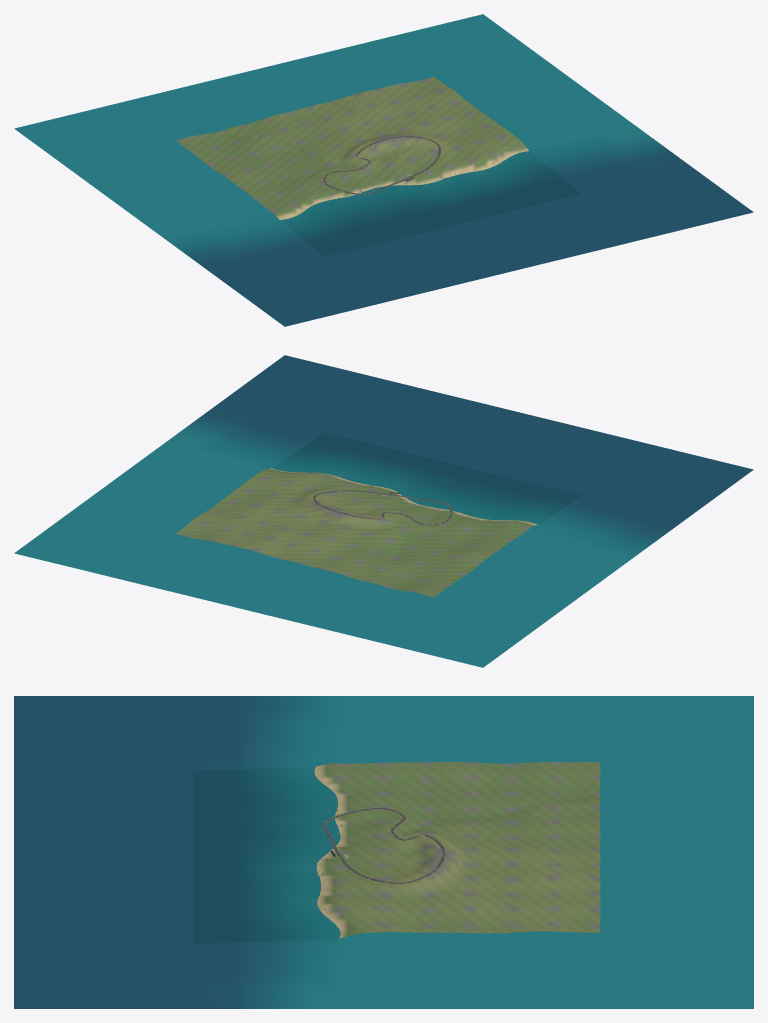
The model's file is azurline-circuit-lod2.glb.
3 views of the same model, one above another, from view 1: azimuth 30°, elevation 25°; view 2: azimuth 150°, elevation 25°; view 3: azimuth 270°, elevation 25° (orthographic). The views are drawn at different scales.
Parts seen in each view (by area): view 1: ocean__Atlantic_water, terrain__Coastal_terrain; view 2: ocean__Atlantic_water, terrain__Coastal_terrain; view 3: ocean__Atlantic_water, terrain__Coastal_terrain, road__Asphalt_—_aggregate_variation.
Boxes of the visible parts, x1,y1,x2,y2 form: ocean__Atlantic_water: (14,14,753,326); terrain__Coastal_terrain: (176,76,528,220); ocean__Atlantic_water: (14,355,753,667); terrain__Coastal_terrain: (176,468,537,597); ocean__Atlantic_water: (14,696,753,1008); terrain__Coastal_terrain: (314,761,600,938); road__Asphalt_—_aggregate_variation: (323,808,444,883).
Bounding box in the file's own units: 4000 × 120 × 4000.
